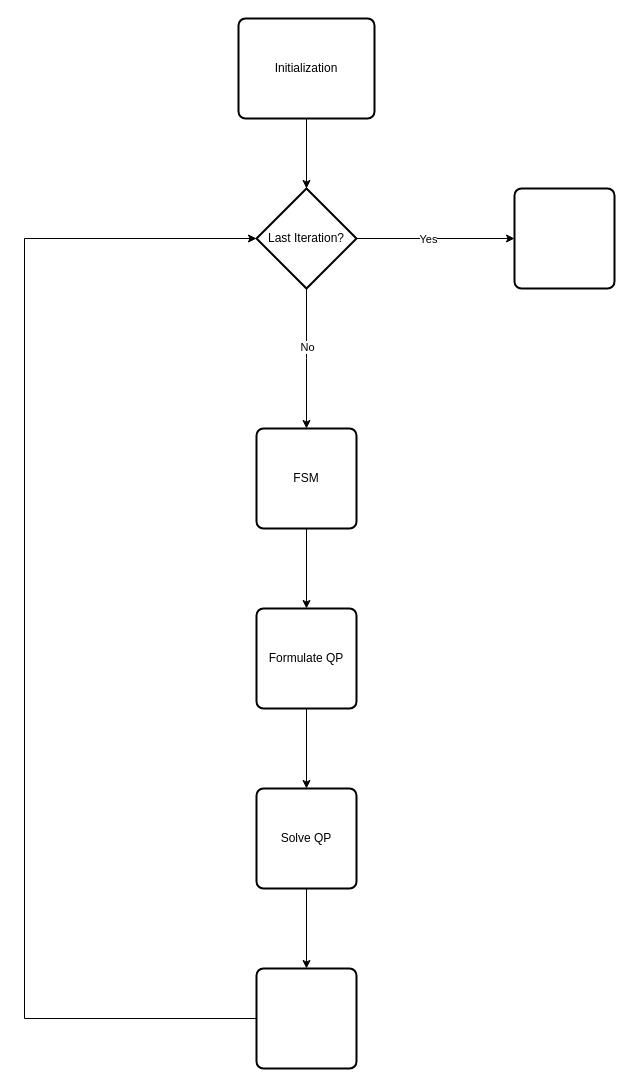
The diagram is 633 pixels wide and 1086 high, and some of its shapes have lost their labels. Each missing label, with the centre of its shape:
Create Animation: (564,238)
Update and Simulate System Dynamics: (306,1018)
